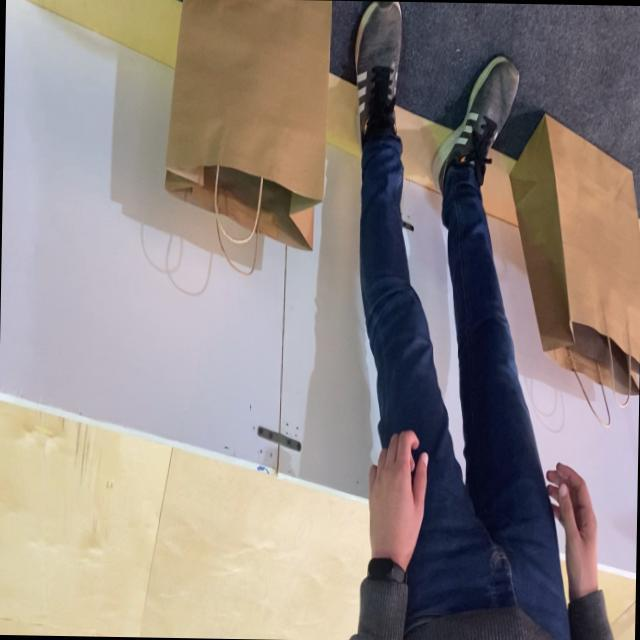Paper_Bag: (162, 0, 333, 278), (504, 112, 640, 428)
